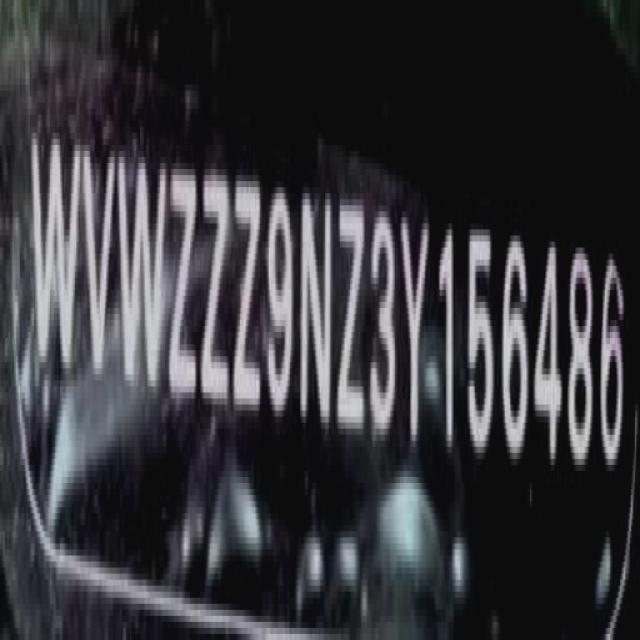1: (438, 214, 459, 458)
3: (369, 210, 397, 443)
4: (535, 239, 565, 471)
5: (466, 218, 497, 462)
6: (502, 229, 531, 465), (600, 248, 628, 472)
8: (568, 249, 596, 473)
9: (264, 177, 295, 425)
N: (300, 174, 336, 433)
V: (82, 134, 117, 374)
W: (29, 121, 78, 386), (120, 147, 166, 401)
Y: (400, 203, 432, 453)
Z: (170, 154, 202, 412), (232, 164, 261, 422), (202, 160, 231, 418), (340, 192, 368, 444)
